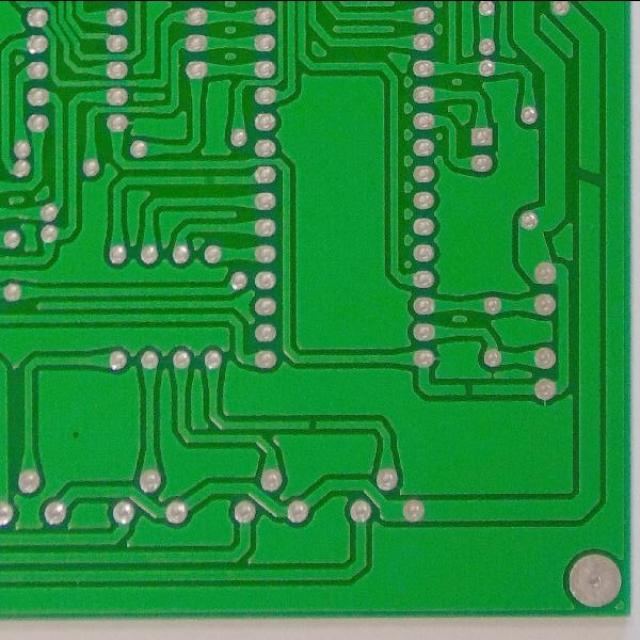Open_Circuit: (566, 158, 609, 199), (457, 376, 481, 402), (301, 414, 324, 434)
